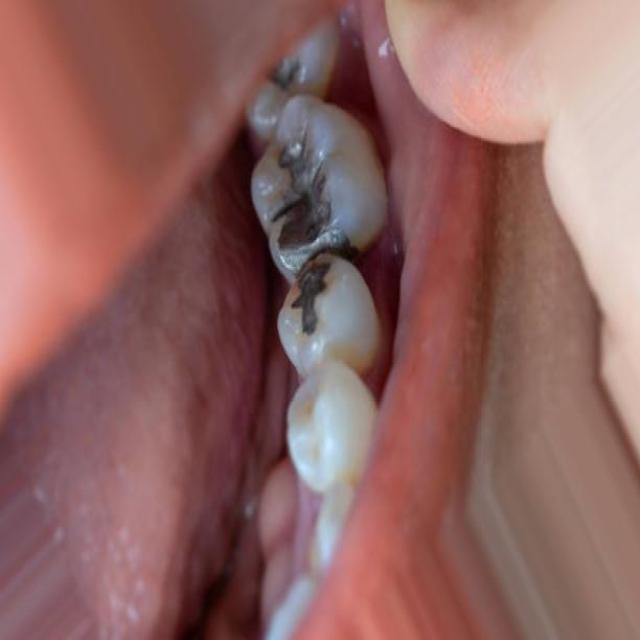caries: (268, 129, 336, 253), (283, 245, 336, 339)
